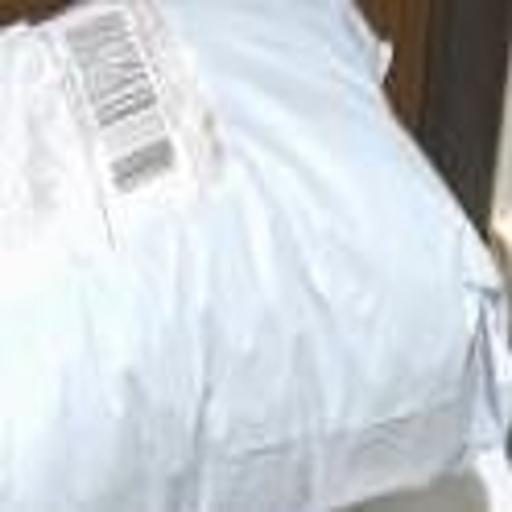Other: (0, 0, 502, 486)
